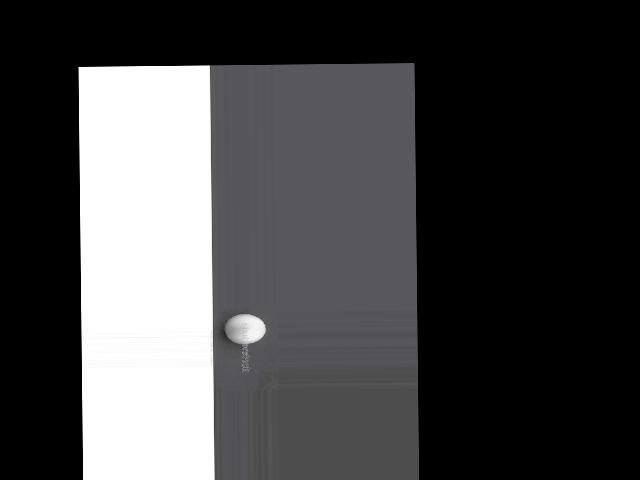egg: (224, 313, 266, 344)
